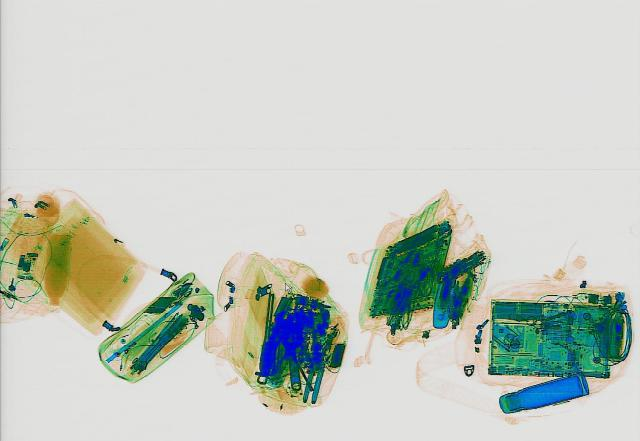Wrench: (270, 310, 310, 390)
